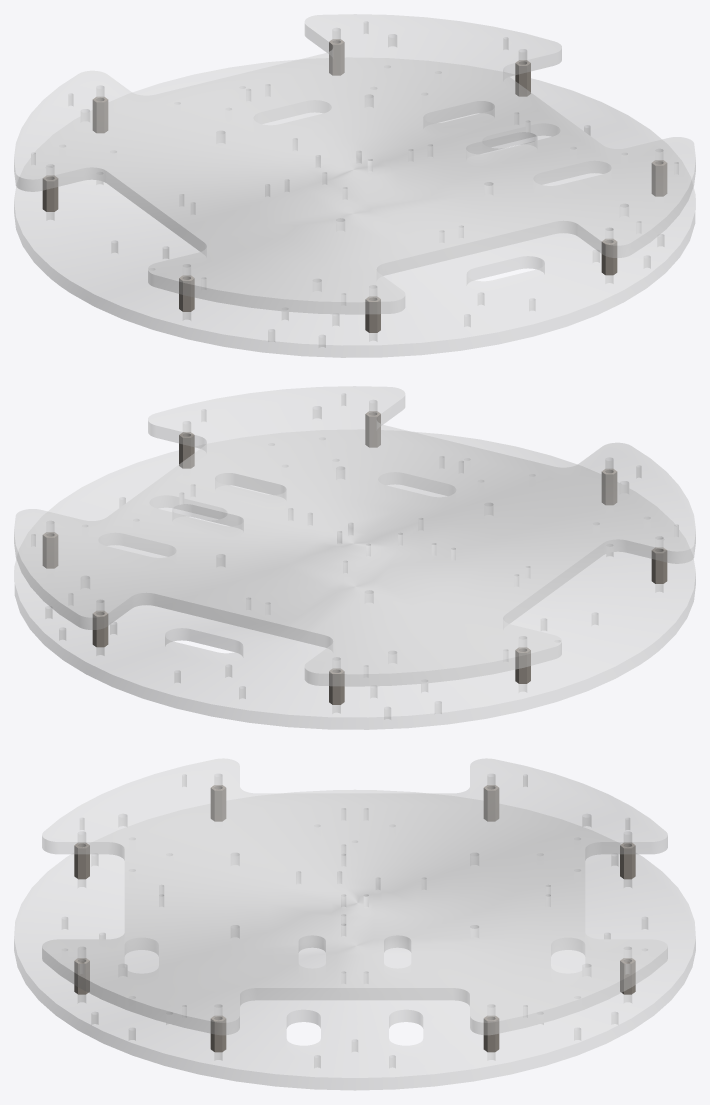
The picture shows the model from 3 angles, top to bottom: view 1: azimuth 30°, elevation 25°; view 2: azimuth 150°, elevation 25°; view 3: azimuth 270°, elevation 25°; orthographic projection.
Visible parts, largest first — view 1: alpha3_actuator_plate-2 - Part_clonedChild, alpha3_actuator_plate-2 - Part, alpha3_top_plate-1 - Part_clonedChild, alpha3_top_plate-1 - Part, RS_970150581_spacer20-4 - Part, RS_970150581_spacer20-5 - Part, RS_970150581_spacer20-7 - Part, RS_970150581_spacer20-1 - Part, RS_970150581_spacer20-2 - Part, RS_970150581_spacer20-8 - Part, RS_970150581_spacer20-3 - Part, RS_970150581_spacer20-6 - Part; view 2: alpha3_actuator_plate-2 - Part_clonedChild, alpha3_actuator_plate-2 - Part, alpha3_top_plate-1 - Part_clonedChild, alpha3_top_plate-1 - Part, RS_970150581_spacer20-2 - Part, RS_970150581_spacer20-3 - Part, RS_970150581_spacer20-8 - Part, RS_970150581_spacer20-6 - Part, RS_970150581_spacer20-4 - Part, RS_970150581_spacer20-5 - Part, RS_970150581_spacer20-7 - Part, RS_970150581_spacer20-1 - Part; view 3: alpha3_actuator_plate-2 - Part_clonedChild, alpha3_actuator_plate-2 - Part, alpha3_top_plate-1 - Part_clonedChild, alpha3_top_plate-1 - Part, RS_970150581_spacer20-4 - Part, RS_970150581_spacer20-7 - Part, RS_970150581_spacer20-8 - Part, RS_970150581_spacer20-3 - Part, RS_970150581_spacer20-2 - Part, RS_970150581_spacer20-5 - Part, RS_970150581_spacer20-1 - Part, RS_970150581_spacer20-6 - Part.
Boxes of the visible parts, x1=… form: alpha3_actuator_plate-2 - Part_clonedChild: x1=14, y1=14, x2=695, y2=314; alpha3_actuator_plate-2 - Part: x1=14, y1=14, x2=695, y2=313; alpha3_top_plate-1 - Part_clonedChild: x1=14, y1=60, x2=695, y2=357; alpha3_top_plate-1 - Part: x1=14, y1=60, x2=694, y2=357; RS_970150581_spacer20-4 - Part: x1=651, y1=160, x2=667, y2=196; RS_970150581_spacer20-5 - Part: x1=601, y1=239, x2=617, y2=275; RS_970150581_spacer20-7 - Part: x1=42, y1=175, x2=58, y2=211; RS_970150581_spacer20-1 - Part: x1=92, y1=97, x2=108, y2=133; RS_970150581_spacer20-2 - Part: x1=329, y1=39, x2=344, y2=75; RS_970150581_spacer20-8 - Part: x1=179, y1=275, x2=194, y2=311; RS_970150581_spacer20-3 - Part: x1=515, y1=60, x2=530, y2=96; RS_970150581_spacer20-6 - Part: x1=365, y1=296, x2=380, y2=332; alpha3_actuator_plate-2 - Part_clonedChild: x1=14, y1=386, x2=695, y2=686; alpha3_actuator_plate-2 - Part: x1=14, y1=386, x2=695, y2=685; alpha3_top_plate-1 - Part_clonedChild: x1=14, y1=432, x2=695, y2=729; alpha3_top_plate-1 - Part: x1=15, y1=432, x2=695, y2=729; RS_970150581_spacer20-2 - Part: x1=92, y1=611, x2=108, y2=647; RS_970150581_spacer20-3 - Part: x1=42, y1=532, x2=58, y2=568; RS_970150581_spacer20-8 - Part: x1=651, y1=547, x2=667, y2=583; RS_970150581_spacer20-6 - Part: x1=601, y1=469, x2=617, y2=505; RS_970150581_spacer20-4 - Part: x1=179, y1=432, x2=194, y2=468; RS_970150581_spacer20-5 - Part: x1=365, y1=411, x2=380, y2=447; RS_970150581_spacer20-7 - Part: x1=515, y1=647, x2=530, y2=683; RS_970150581_spacer20-1 - Part: x1=329, y1=668, x2=344, y2=704; alpha3_actuator_plate-2 - Part_clonedChild: x1=42, y1=758, x2=667, y2=1034; alpha3_actuator_plate-2 - Part: x1=42, y1=759, x2=667, y2=1034; alpha3_top_plate-1 - Part_clonedChild: x1=14, y1=790, x2=695, y2=1090; alpha3_top_plate-1 - Part: x1=14, y1=790, x2=695, y2=1089; RS_970150581_spacer20-4 - Part: x1=210, y1=1015, x2=226, y2=1052; RS_970150581_spacer20-7 - Part: x1=483, y1=785, x2=499, y2=821; RS_970150581_spacer20-8 - Part: x1=210, y1=785, x2=226, y2=821; RS_970150581_spacer20-3 - Part: x1=483, y1=1016, x2=499, y2=1052; RS_970150581_spacer20-2 - Part: x1=620, y1=958, x2=635, y2=994; RS_970150581_spacer20-5 - Part: x1=74, y1=958, x2=89, y2=994; RS_970150581_spacer20-1 - Part: x1=620, y1=843, x2=635, y2=879; RS_970150581_spacer20-6 - Part: x1=74, y1=843, x2=89, y2=879.
Bounding box in the file's own units: 0.4 × 0.036 × 0.3998.
10 materials, 2 textured.
